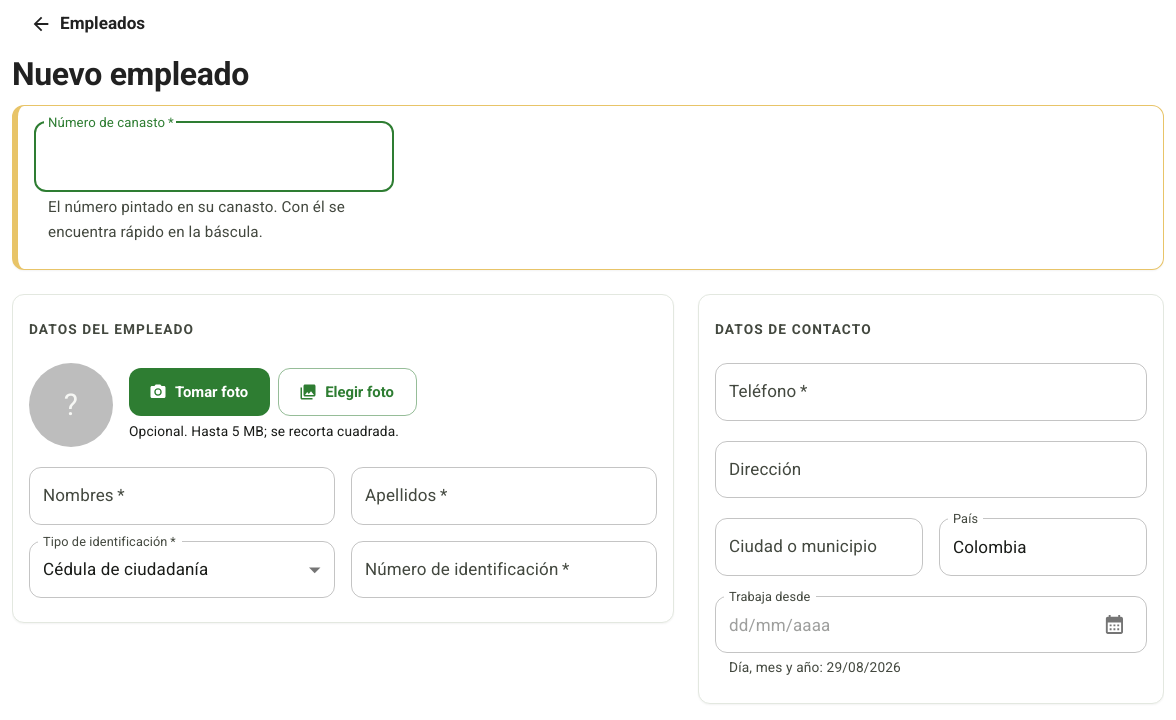
it: when the server says no › puts field errors under their boxes and the message on top
Type "91" into the field labelled "Número de canasto *".
click(214, 156); type("91")  # box [34, 122, 394, 192]
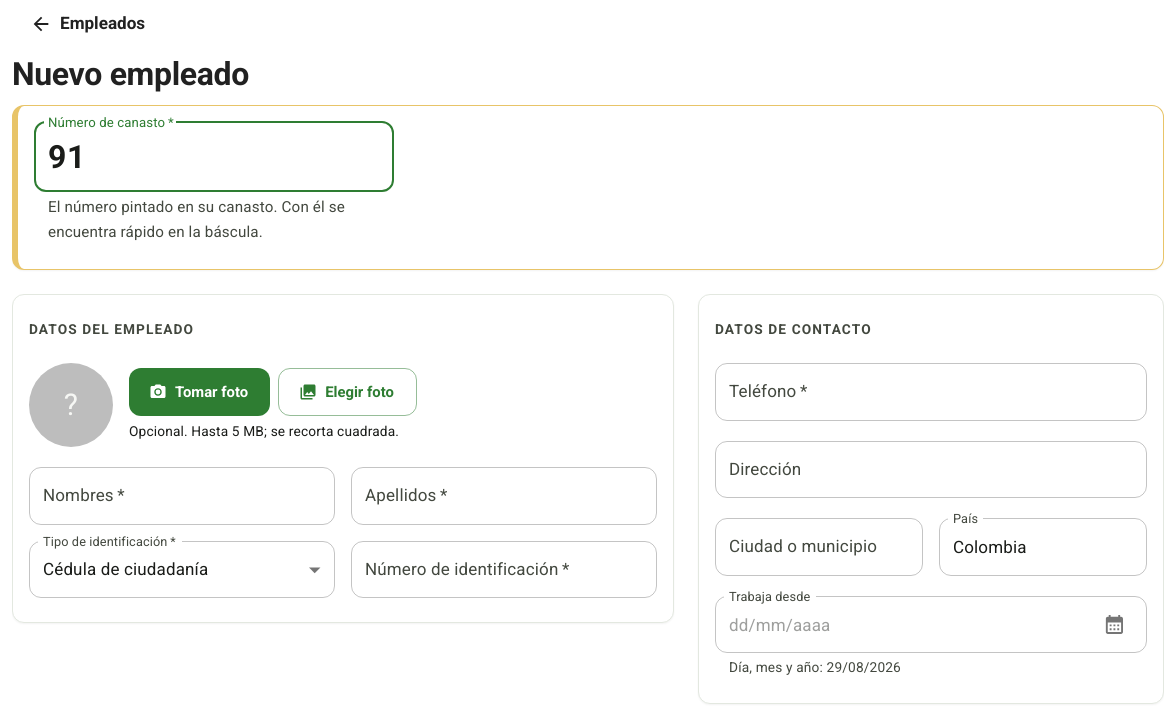
Type "Otra" into the field labelled "Nombres *".
click(182, 496); type("Otra")  # box [29, 468, 335, 525]
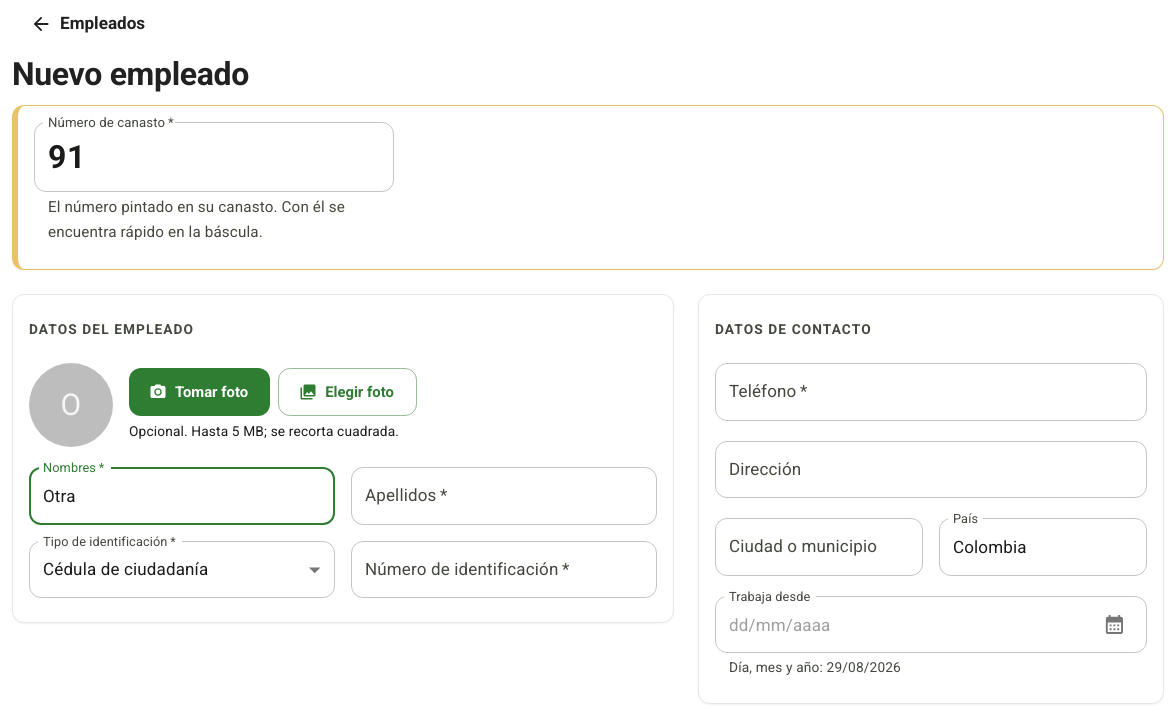
Type "Persona" into the field labelled "Apellidos *".
click(504, 496); type("Persona")  # box [351, 468, 657, 525]
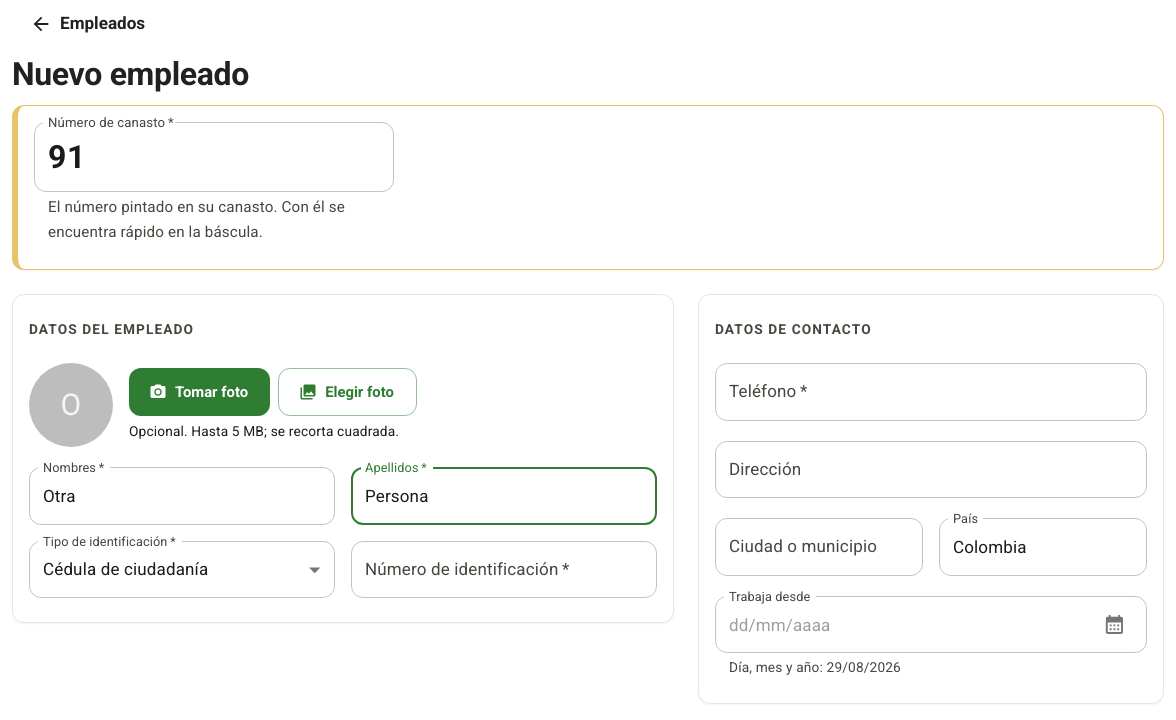
Type "99887766" into the field labelled "Número de identificación *".
click(504, 570); type("99887766")  # box [351, 541, 657, 598]
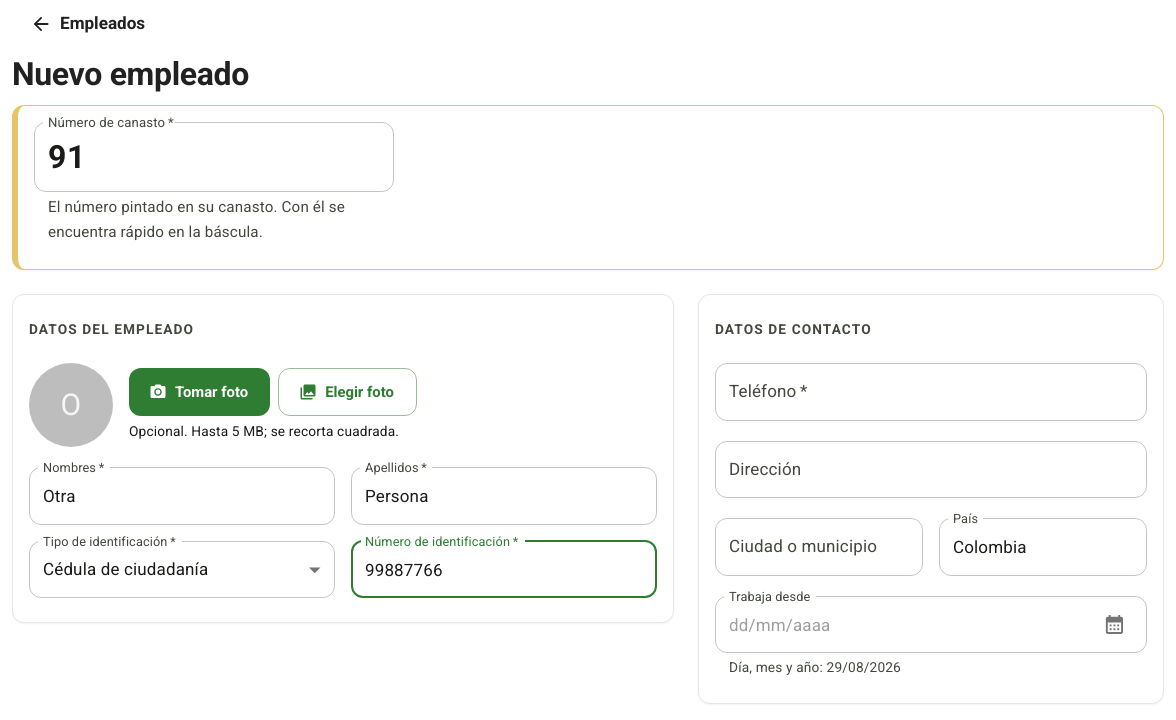
Type "3001234567" into the field labelled "Teléfono *".
click(931, 392); type("3001234567")  # box [715, 364, 1147, 421]
(page scrolled)
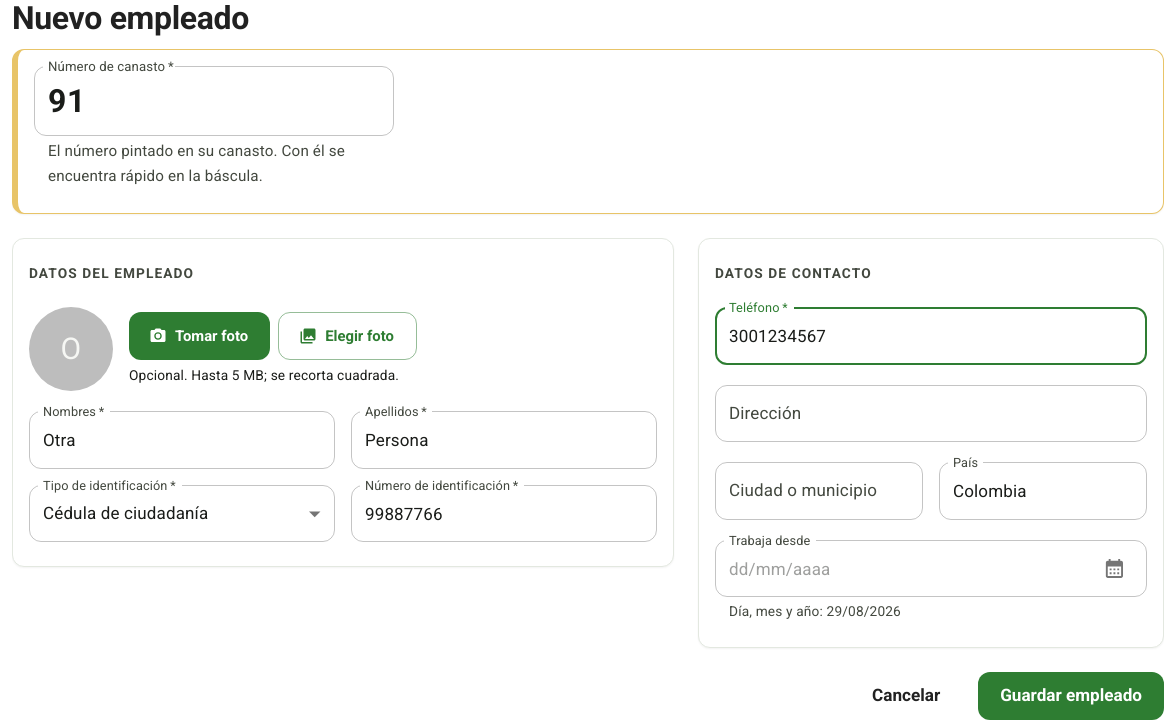
Click the button "Guardar empleado".
click(1071, 696)  # box [978, 672, 1164, 719]
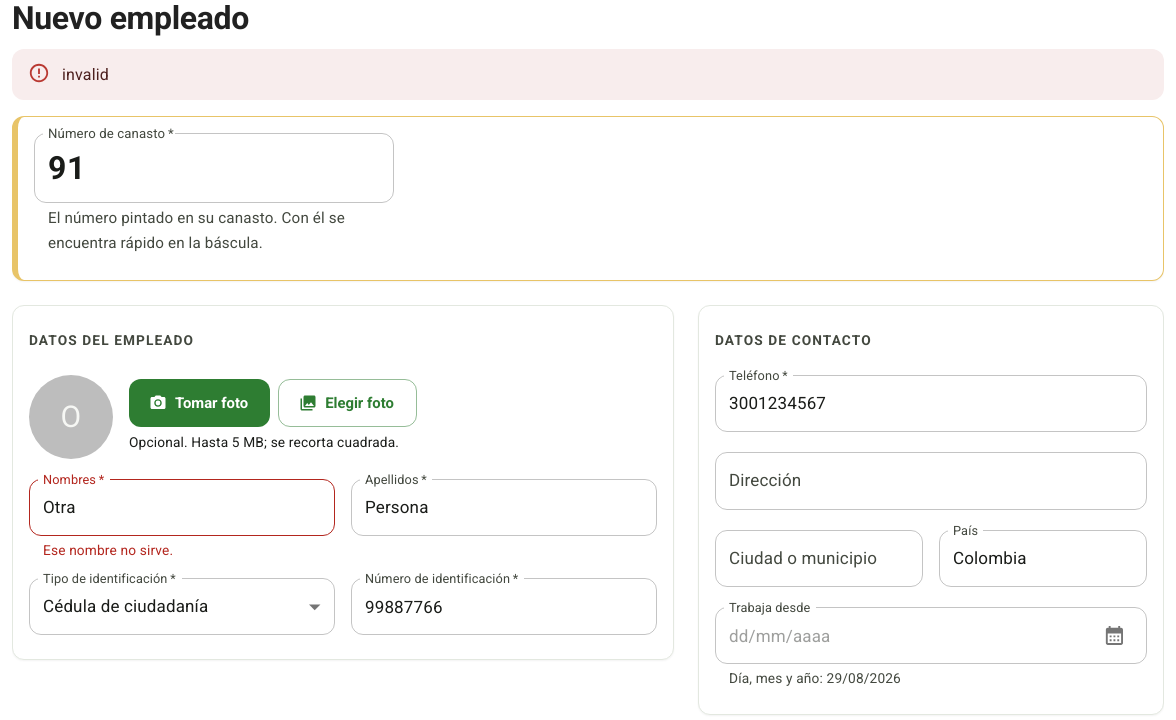
Check: the text "Ese nombre no sirve." is shown, box [43, 542, 173, 558]
Check: the message "invalid" is shown, box [12, 48, 1164, 100]
